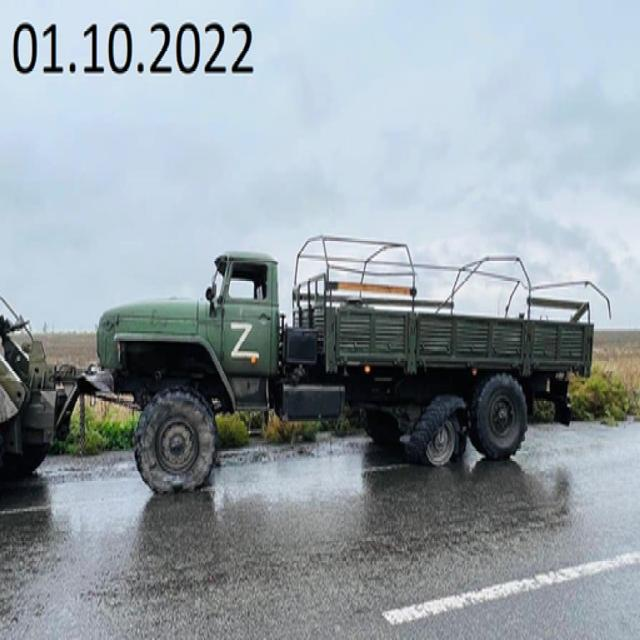TRUCK: (85, 226, 600, 506)
